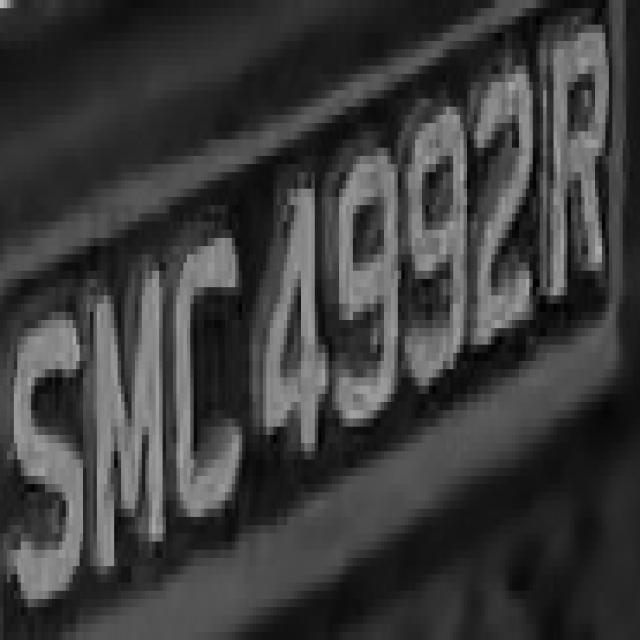2: (471, 41, 543, 361)
4: (242, 180, 336, 460)
9: (325, 123, 405, 443), (398, 90, 470, 394)
C: (173, 222, 246, 566)
M: (76, 263, 166, 566)
R: (550, 8, 616, 328)
S: (7, 287, 90, 583)
